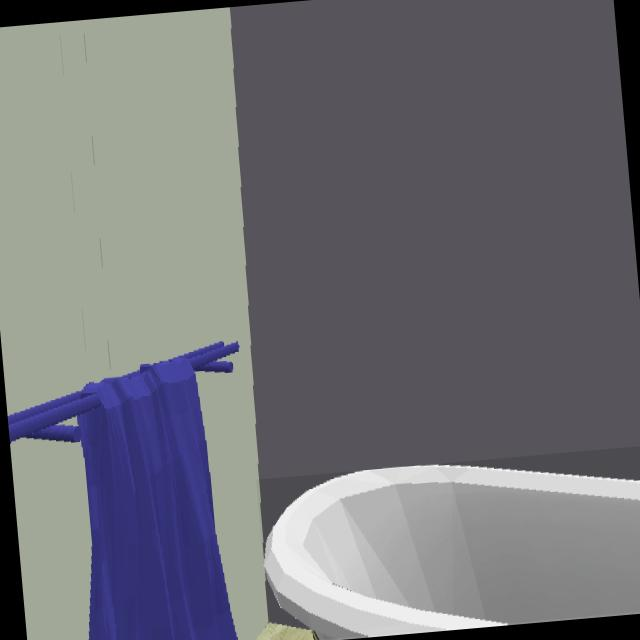bathtube: (264, 465, 640, 640)
